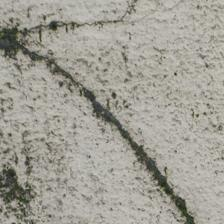Crack: (7, 36, 193, 221), (16, 2, 140, 41)
